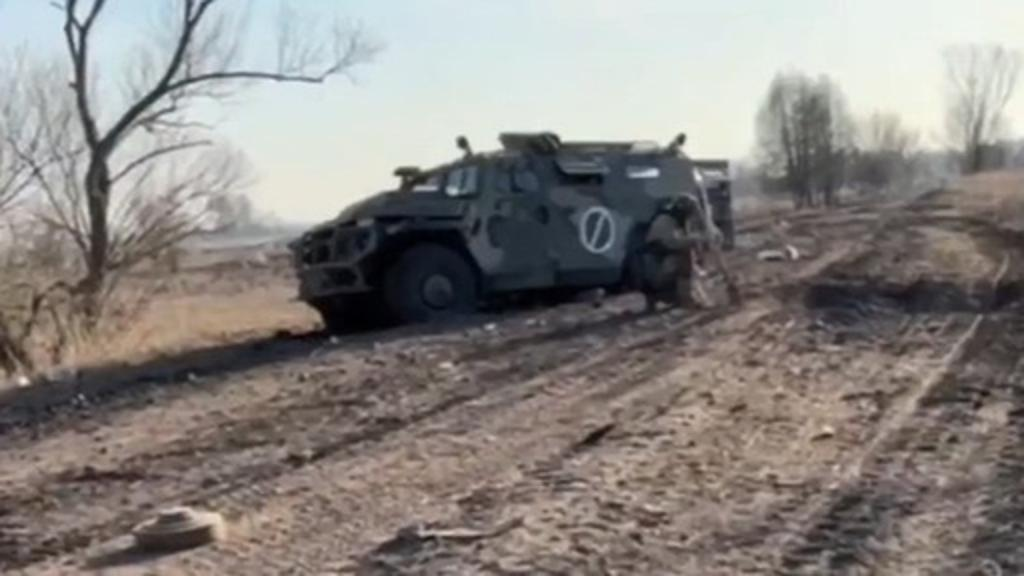CAR: (292, 124, 726, 340)
